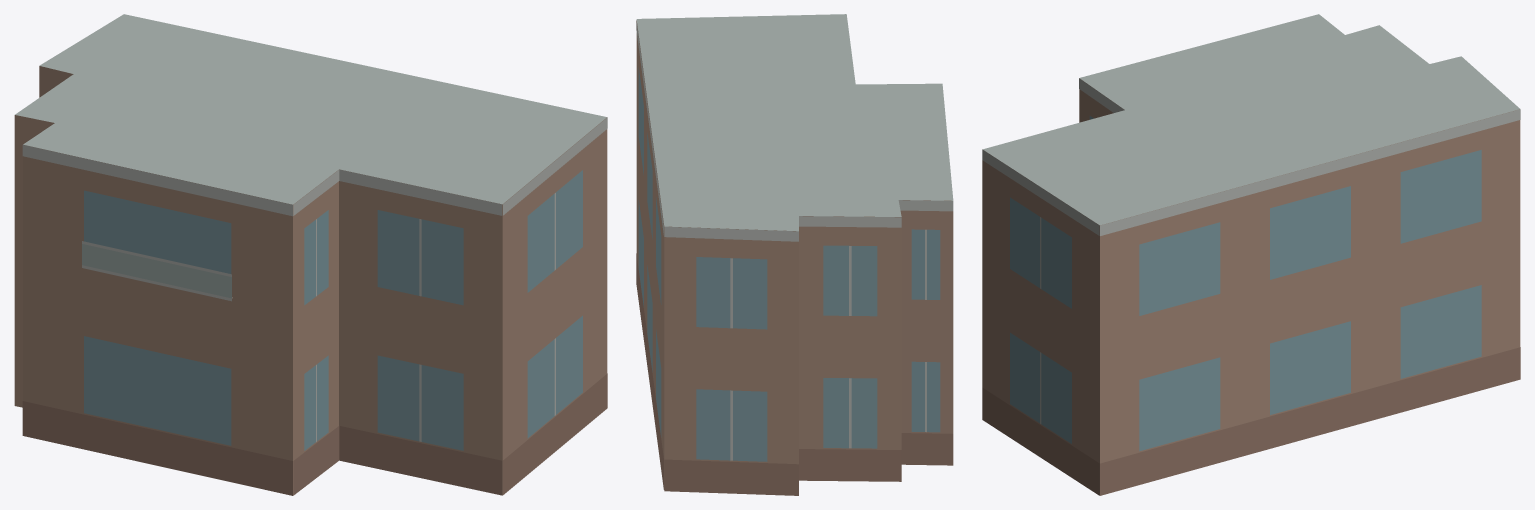
The model's file is survey-upis-32906660.glb.
3 views of the same model, side by side, from view 1: azimuth 30°, elevation 25°; view 2: azimuth 150°, elevation 25°; view 3: azimuth 270°, elevation 25° (orthographic). The views are drawn at different scales.
Visible parts, largest first — view 1: survey-upis-32906660.tmp; view 2: survey-upis-32906660.tmp; view 3: survey-upis-32906660.tmp.
Boxes of the visible parts, left/top/right/bottom form: survey-upis-32906660.tmp: left=14, top=14, right=607, bottom=495; survey-upis-32906660.tmp: left=636, top=14, right=953, bottom=495; survey-upis-32906660.tmp: left=982, top=14, right=1520, bottom=495.
Bounding box in the file's own units: 10.24 × 6.1 × 11.01.
